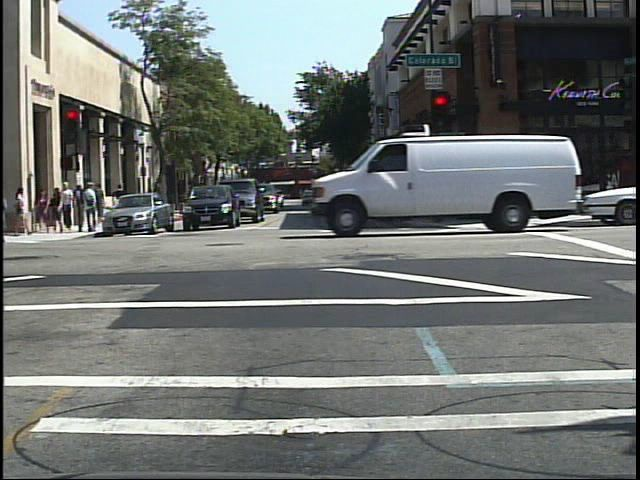person: (79, 180, 100, 234)
